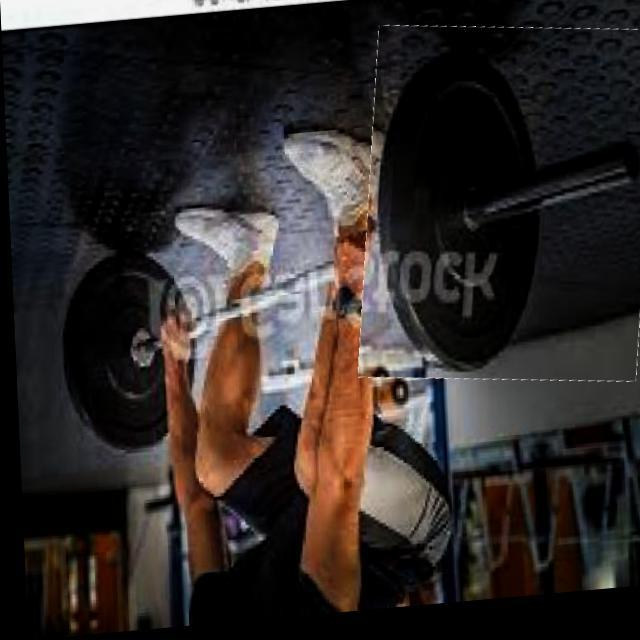barbell: (352, 21, 640, 406)
